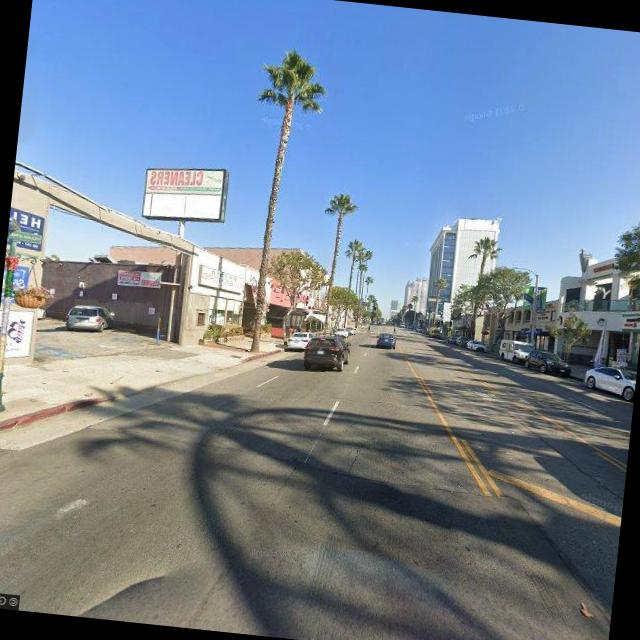pothole: (346, 428, 378, 478)
